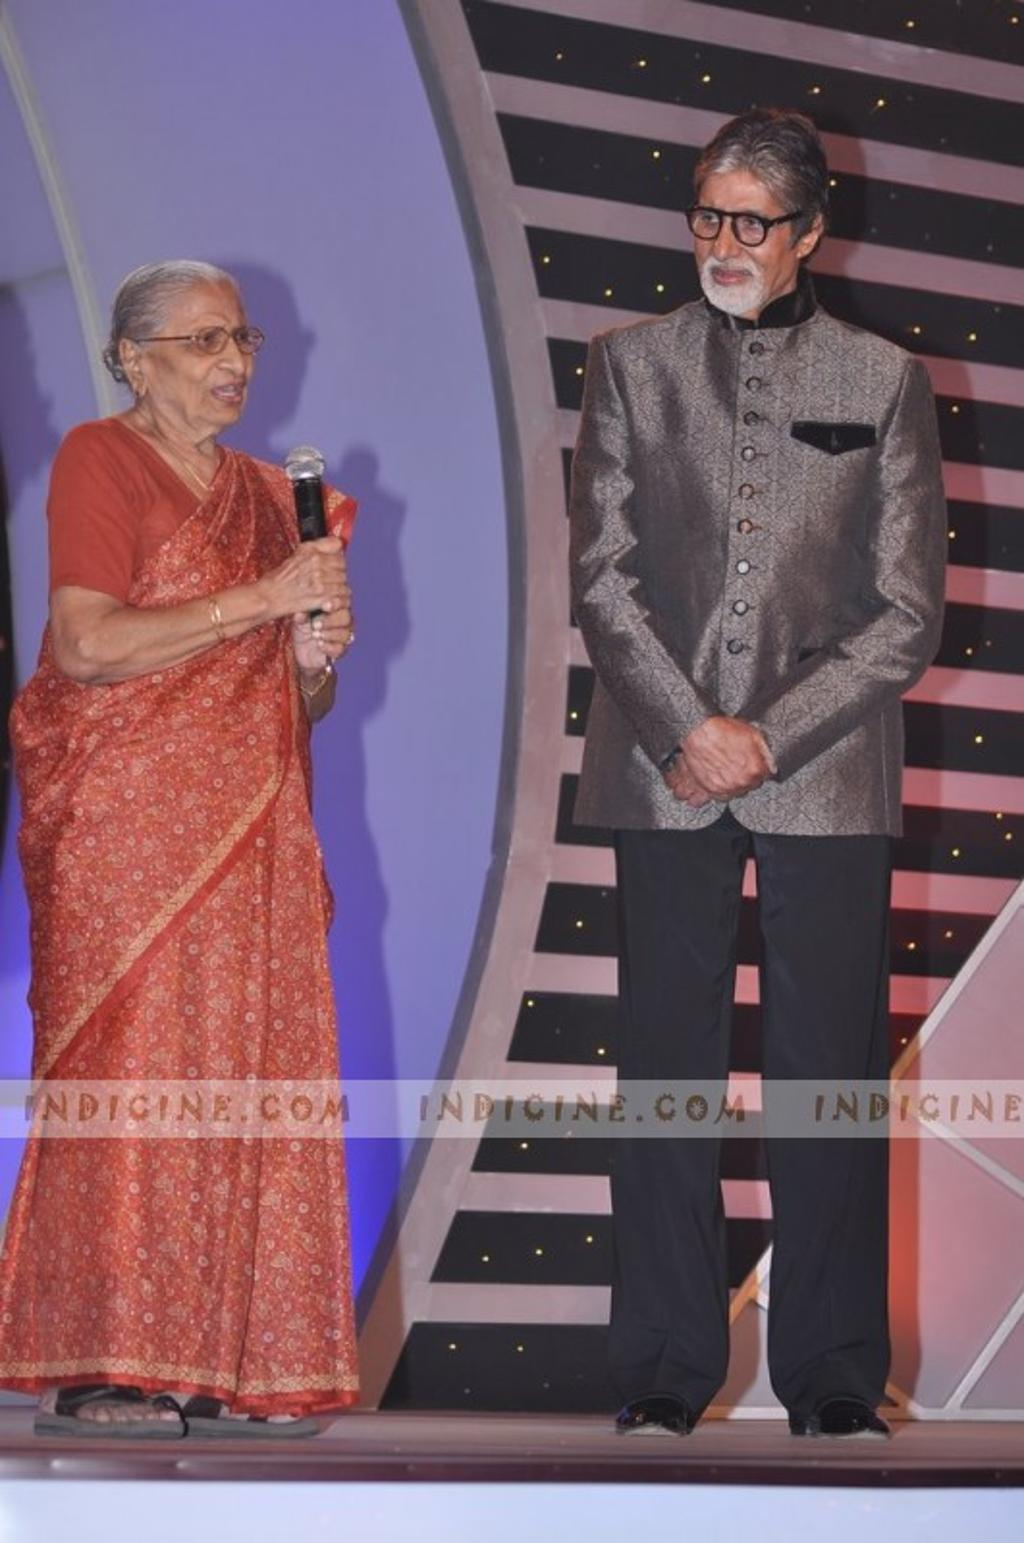face: (145, 274, 253, 416), (690, 175, 789, 311)
